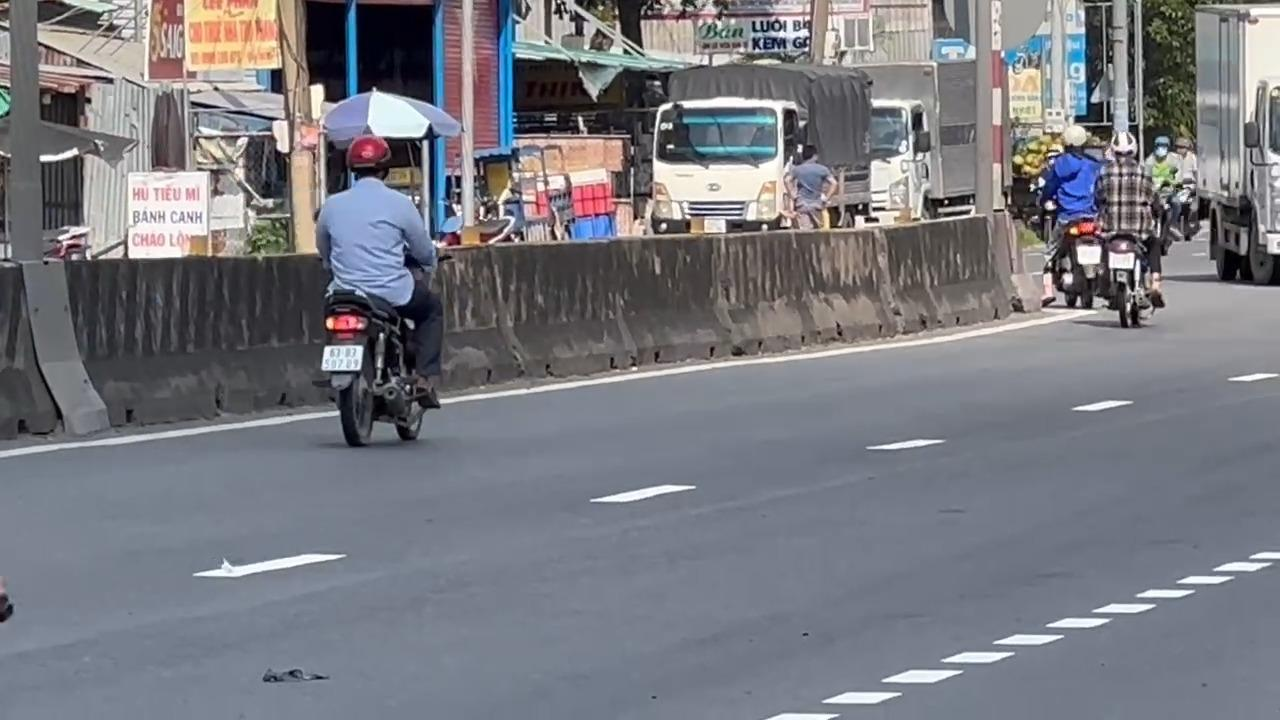bien_so: (320, 343, 364, 372)
